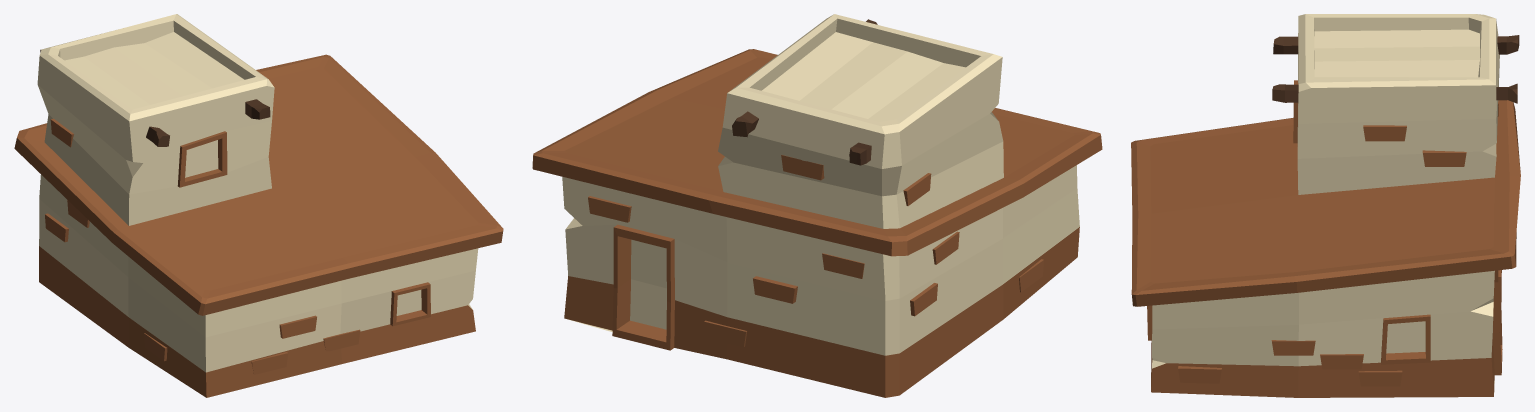
The model's file is House_2.fbx.
The picture shows the model from 3 angles, left to right: view 1: azimuth 30°, elevation 25°; view 2: azimuth 150°, elevation 25°; view 3: azimuth 270°, elevation 25°; orthographic projection. The views are drawn at different scales.
Visible parts, largest first — view 1: House_2; view 2: House_2; view 3: House_2.
Part boxes in pixels (bbox=[...]): House_2: bbox=[14, 14, 503, 397]; House_2: bbox=[532, 14, 1102, 397]; House_2: bbox=[1131, 14, 1520, 397].
Size of the model in its own units: 394 by 273 by 395.
